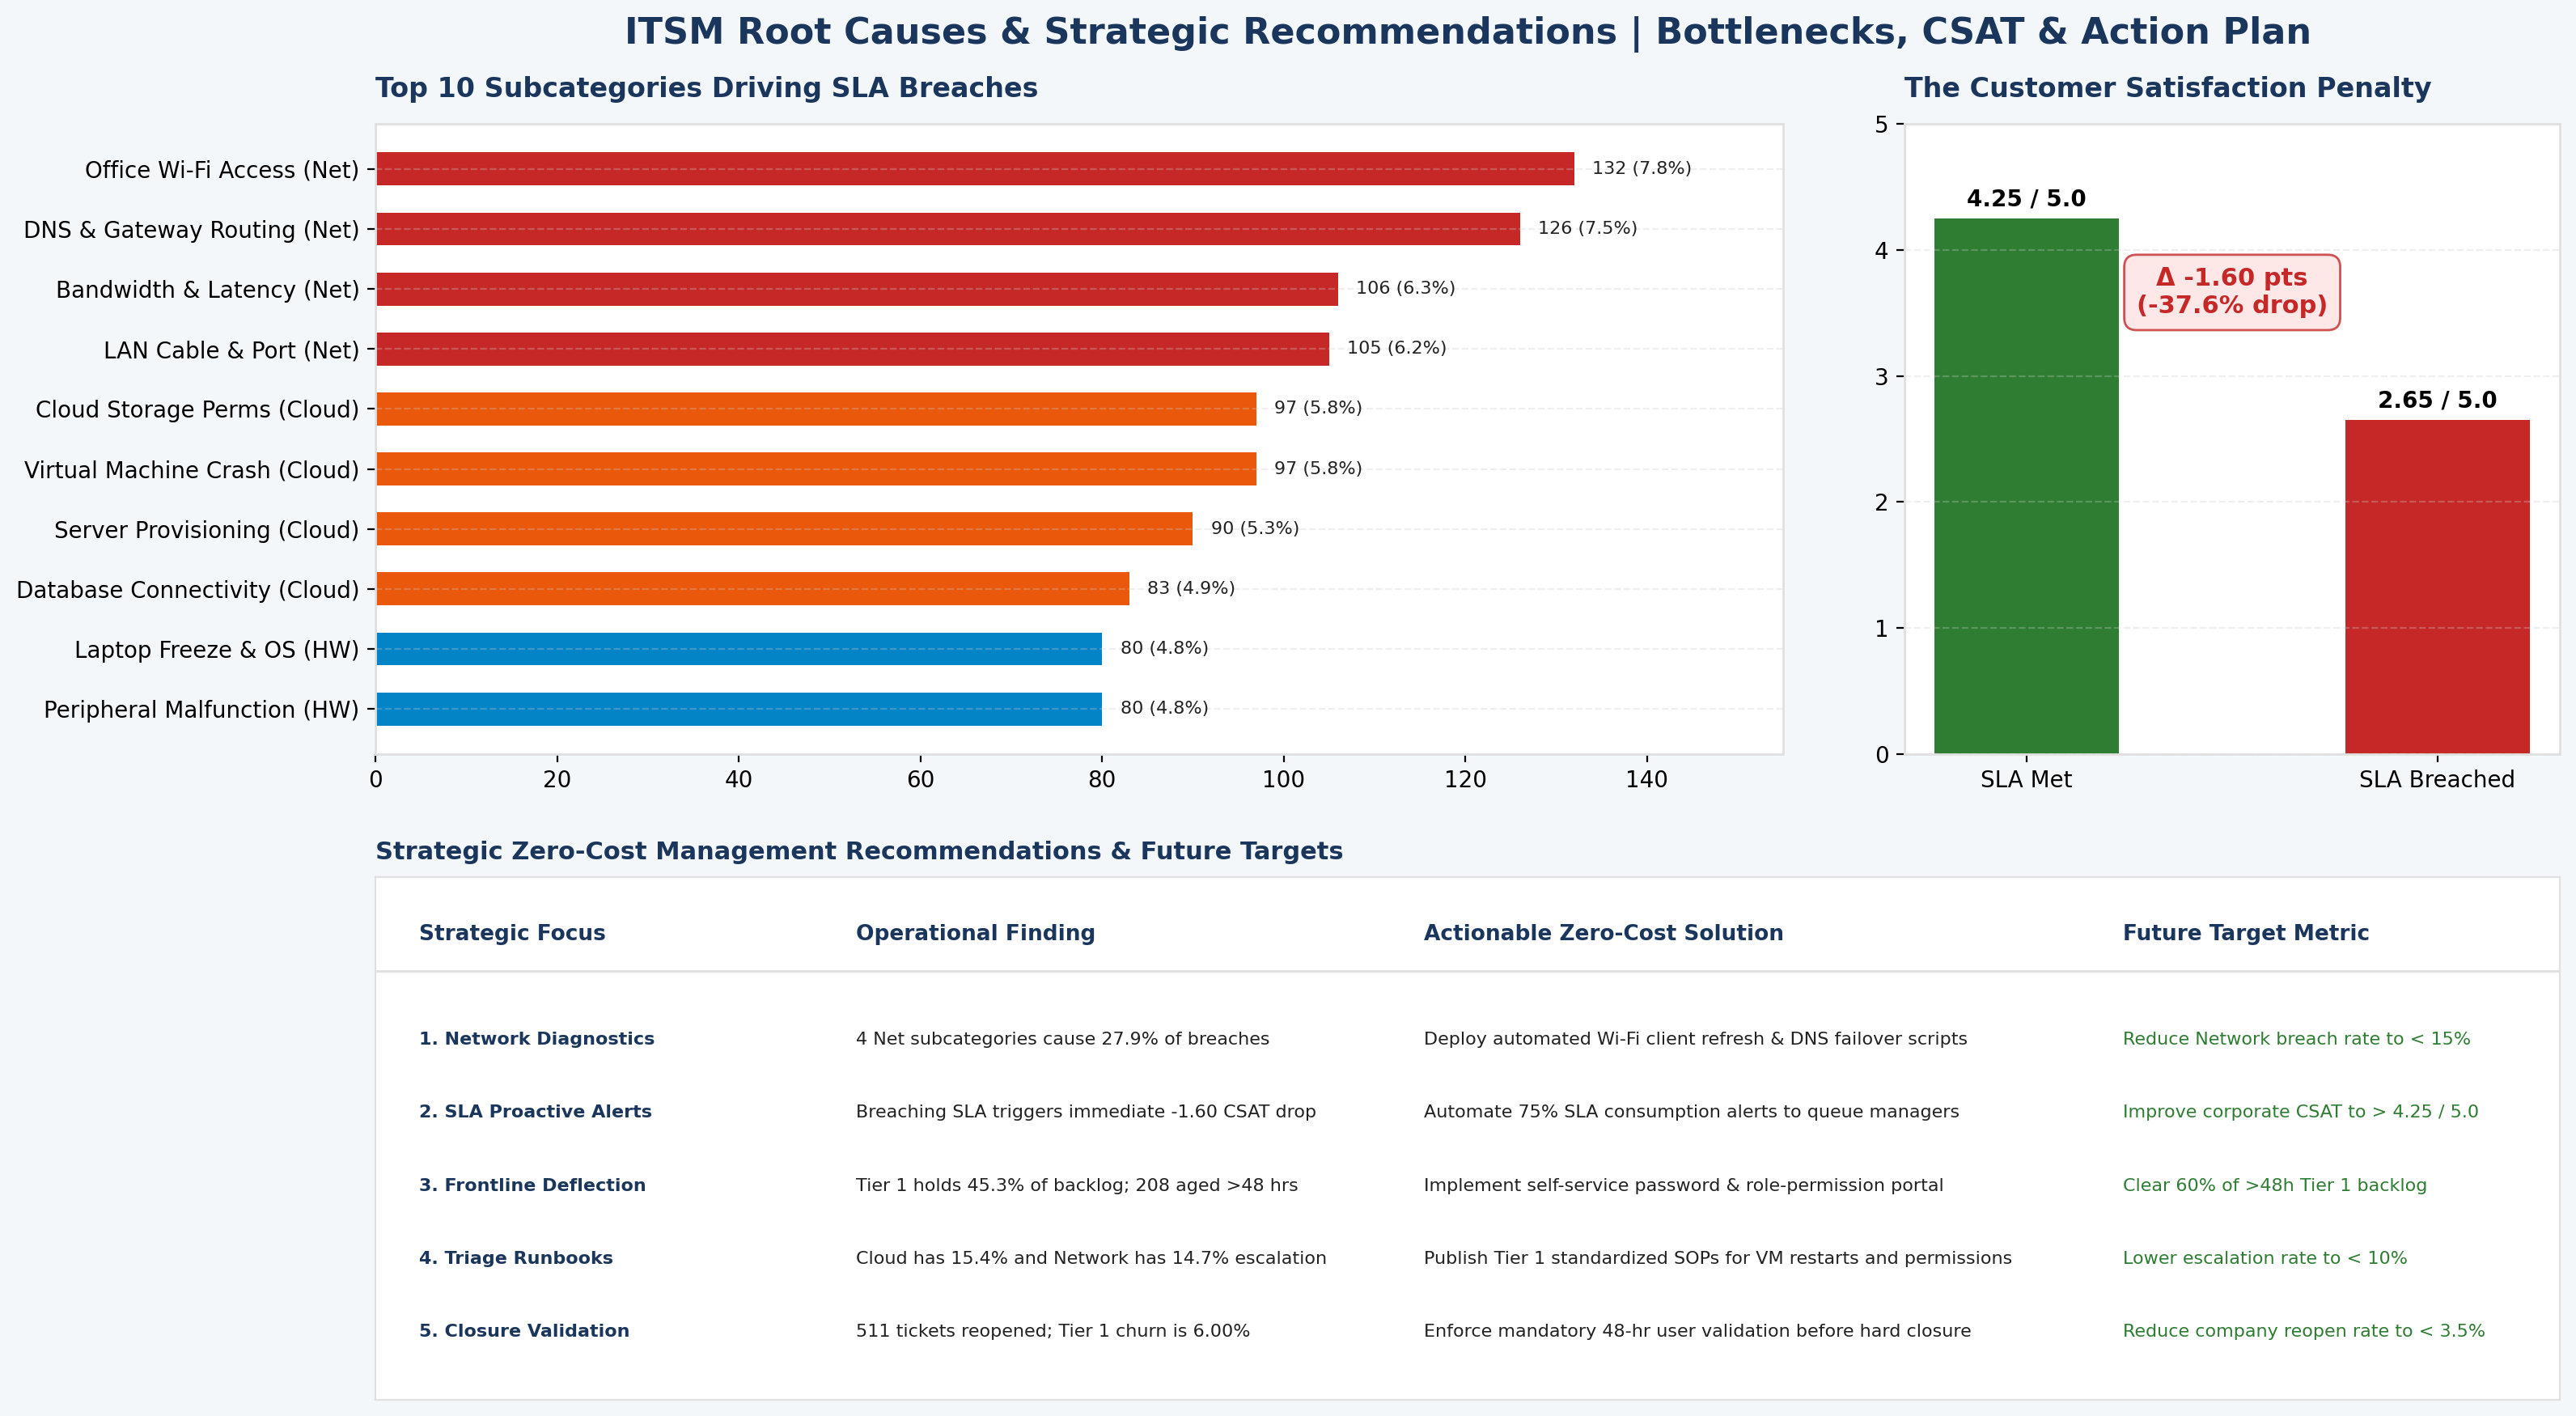

The page's visual inventory and layout, read from the dashboard file:
{"tool":"tableau","page":{"name":"4_Root_Causes_and_Recommendations","canvas":[1300,850],"ordinal":3},"visuals":[{"type":"worksheet","title":"Root_Cause_Subcategories","mark":"Bar","box":[0,0,780,425]},{"type":"worksheet","title":"Root_Cause_CSAT_Impact","mark":"Bar","box":[780,0,520,425]}]}

Visuals, with their boxes on the page's 1300x850 design canvas (x1, y1, x2, y2). These are canvas units, not pixel positions in the 2576x1416 screenshot, which may show the page scaled, cropped or inside an application window:
"Root_Cause_Subcategories" worksheet (Bar marks): [0, 0, 780, 425]
"Root_Cause_CSAT_Impact" worksheet (Bar marks): [780, 0, 1300, 425]
